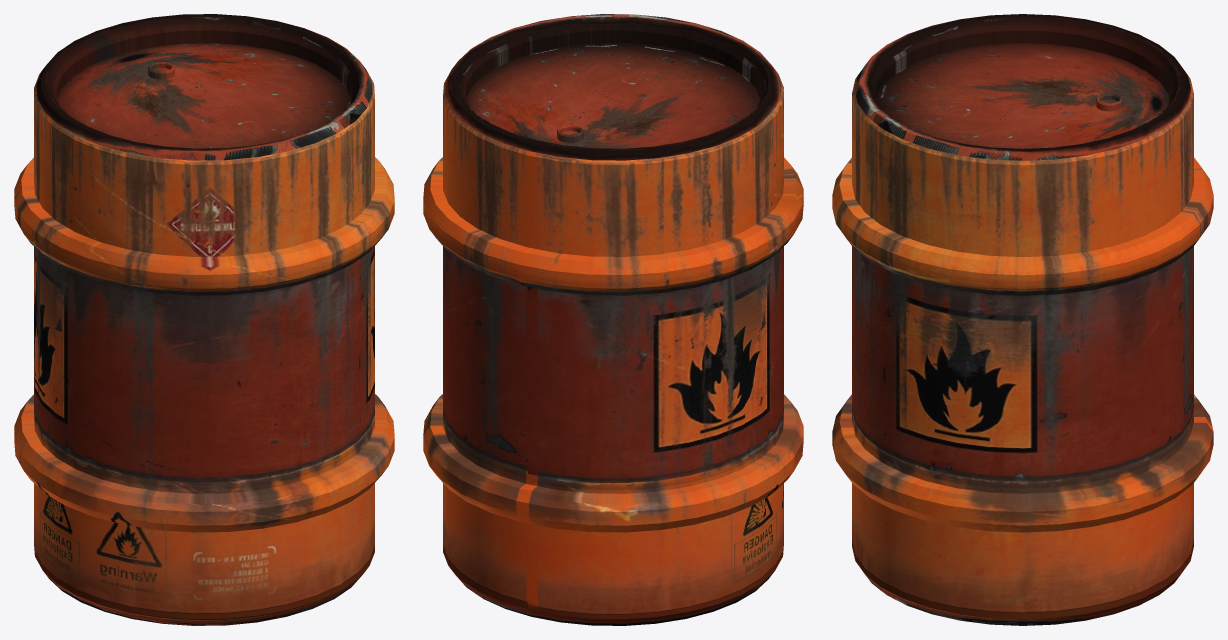
File: Explosive Barrel.fbx
The picture shows the model from 3 angles, left to right: view 1: azimuth 30°, elevation 25°; view 2: azimuth 150°, elevation 25°; view 3: azimuth 270°, elevation 25°; orthographic projection.
Parts seen in each view (by area): view 1: Cylinder; view 2: Cylinder; view 3: Cylinder.
Part boxes in pixels (x1,y1,x2,y2): Cylinder: (14,14,394,625); Cylinder: (423,14,803,625); Cylinder: (832,14,1213,625).
Size of the model in its own units: 223 by 306 by 223.
